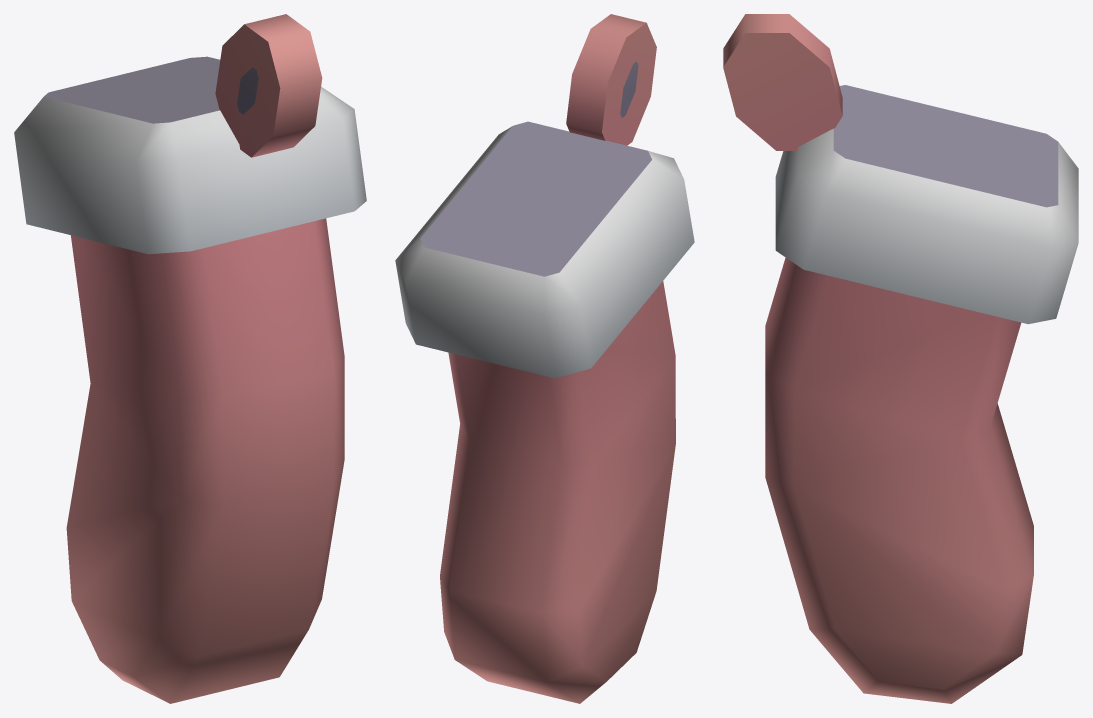
The model's file is sock (%wall).glb.
3 views of the same model, side by side, from view 1: azimuth 30°, elevation 25°; view 2: azimuth 150°, elevation 25°; view 3: azimuth 270°, elevation 25° (orthographic). The views are drawn at different scales.
Visible parts, largest first — view 1: sock (%wall); view 2: sock (%wall); view 3: sock (%wall).
Boxes of the visible parts, box(x1,y1,x2,y2) form: sock (%wall): box(14, 14, 366, 703); sock (%wall): box(395, 14, 694, 703); sock (%wall): box(723, 14, 1078, 703).
Size of the model in its own units: 0.14 by 0.436 by 0.2142.
